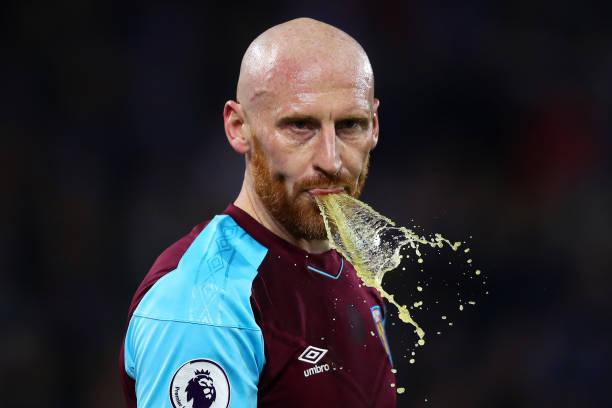Spitting: (196, 3, 438, 259)
